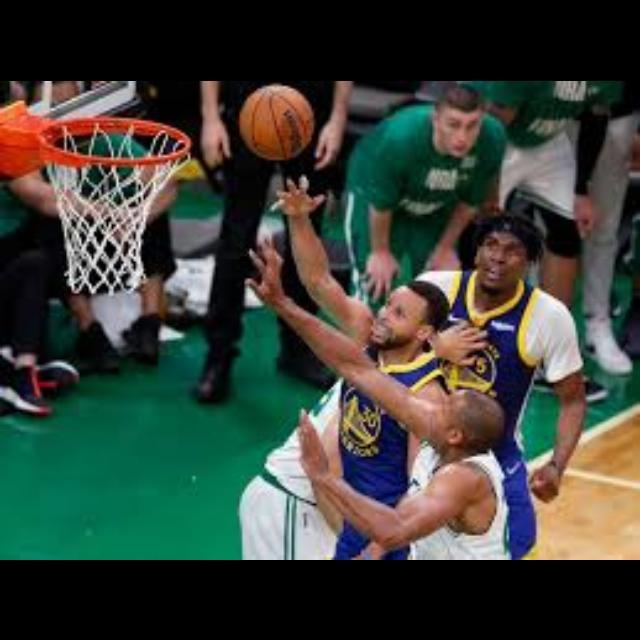basketball: (240, 85, 314, 159)
rim: (38, 115, 190, 295)
